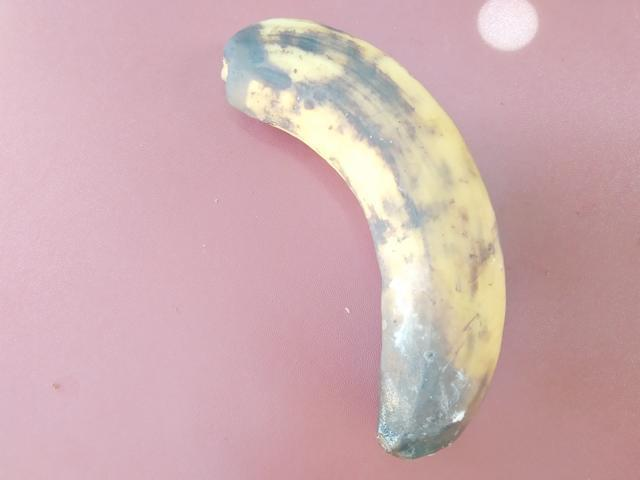rotten: (202, 6, 551, 479)
